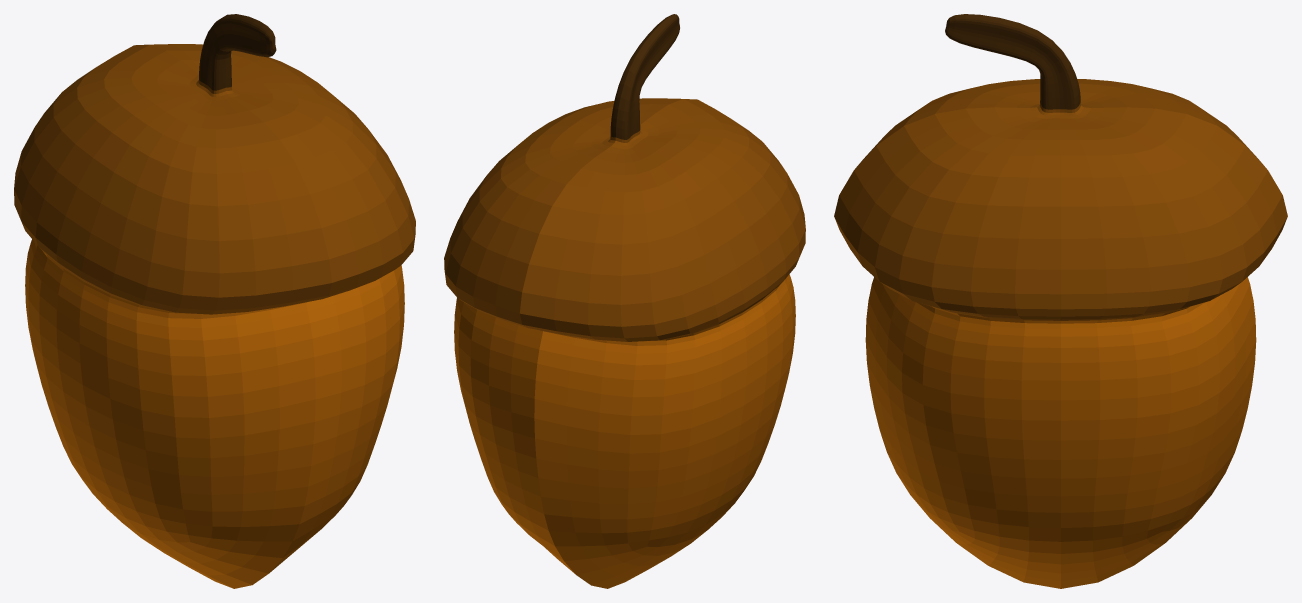
File: terho.fbx
3 renders of one model, left to right at view 1: azimuth 30°, elevation 25°; view 2: azimuth 150°, elevation 25°; view 3: azimuth 270°, elevation 25°, orthographic. The views are drawn at different scales.
Visible parts, largest first — view 1: Cube; view 2: Cube; view 3: Cube.
Part boxes in pixels (bbox=[...]): Cube: bbox=[14, 14, 415, 588]; Cube: bbox=[444, 14, 805, 588]; Cube: bbox=[834, 14, 1287, 588].
Bounding box in the file's own units: 127 × 227 × 163.
